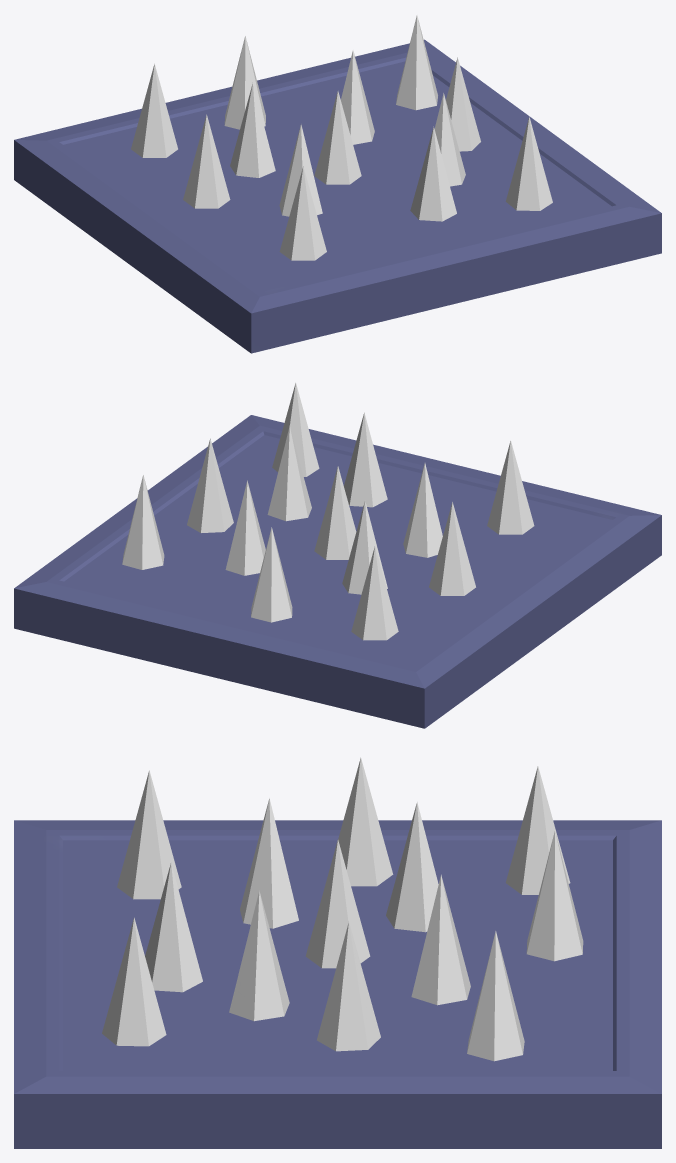
File: StandIn_SpikeGroundTile.fbx
3 renders of one model, top to bottom at view 1: azimuth 30°, elevation 25°; view 2: azimuth 150°, elevation 25°; view 3: azimuth 270°, elevation 25°, orthographic. The views are drawn at different scales.
Visible parts, largest first — view 1: SpikeGroundTile; view 2: SpikeGroundTile; view 3: SpikeGroundTile.
Boxes of the visible parts, <box> form: SpikeGroundTile: <box>14,15,661,353</box>; SpikeGroundTile: <box>14,382,661,728</box>; SpikeGroundTile: <box>14,757,661,1148</box>.
Bounding box in the file's own units: 100 × 29.46 × 100.
1 material, 1 textured.
